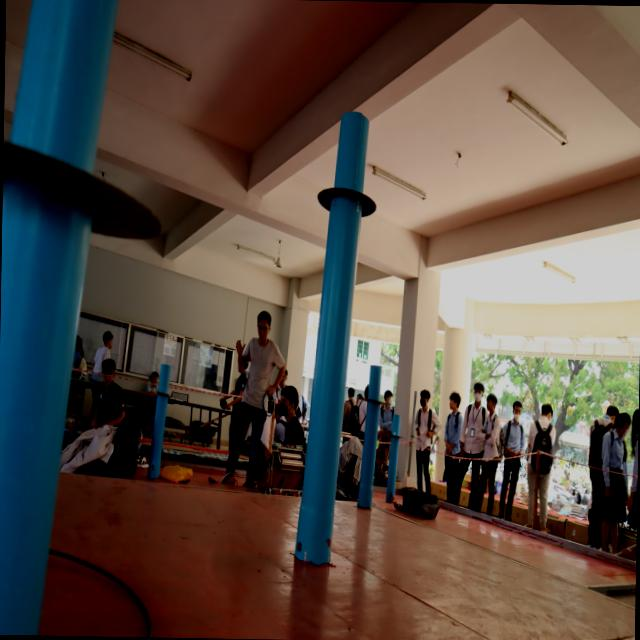pole: (0, 0, 169, 289), (309, 106, 388, 268), (142, 357, 179, 432), (354, 360, 392, 430), (382, 412, 407, 456)
